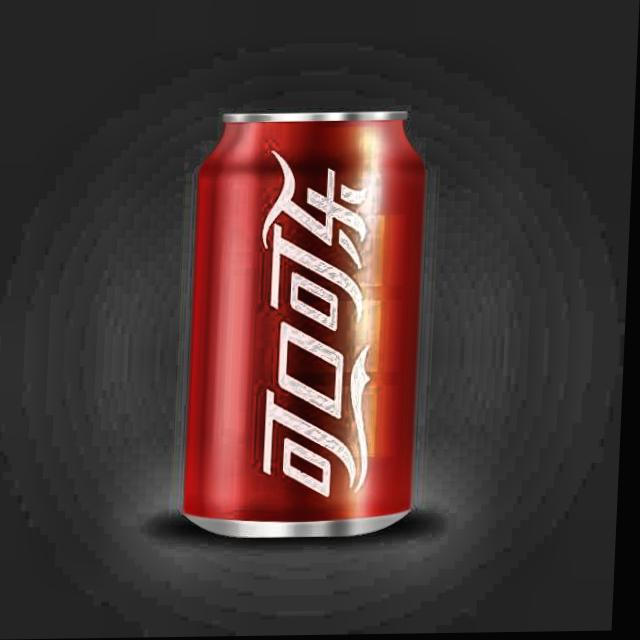can: (174, 103, 450, 562)
